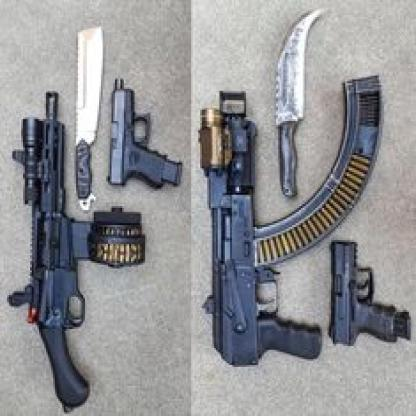Gun: (197, 72, 384, 370), (8, 88, 148, 416)
Knife: (272, 4, 328, 200), (72, 22, 106, 213)
Pistol: (326, 237, 412, 349), (107, 75, 183, 192)
